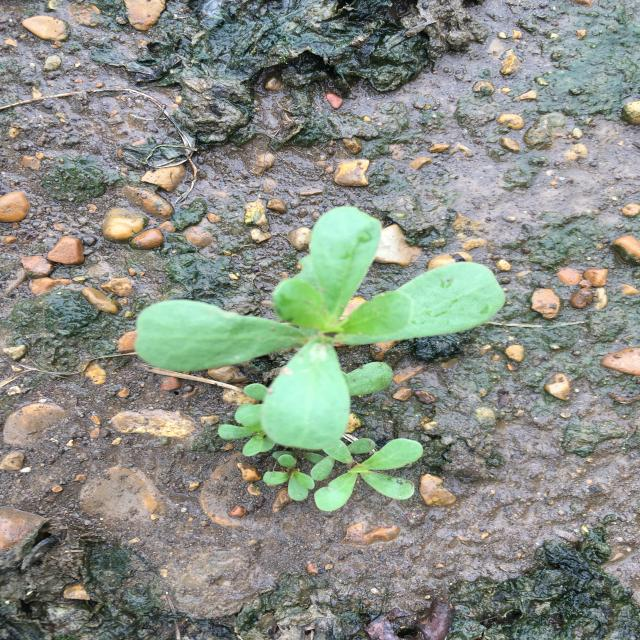Carpetweed: (134, 206, 506, 511)
